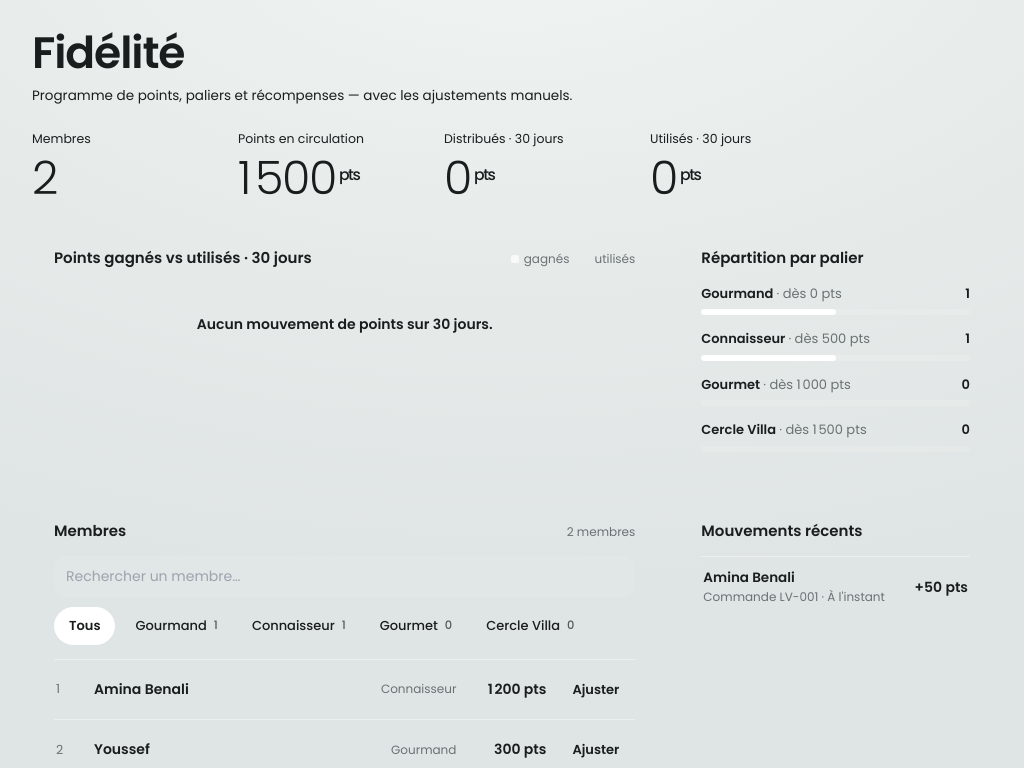
Test: LoyaltyAdminScreen › filtre les membres par recherche puis par palier
Expected: the text "Amina Benali" is shown 2 times, [94,679,189,699]; [703,568,795,587]
In the search field labelled "Rechercher un membre": (345, 577) [54,556,635,597], type "youss"
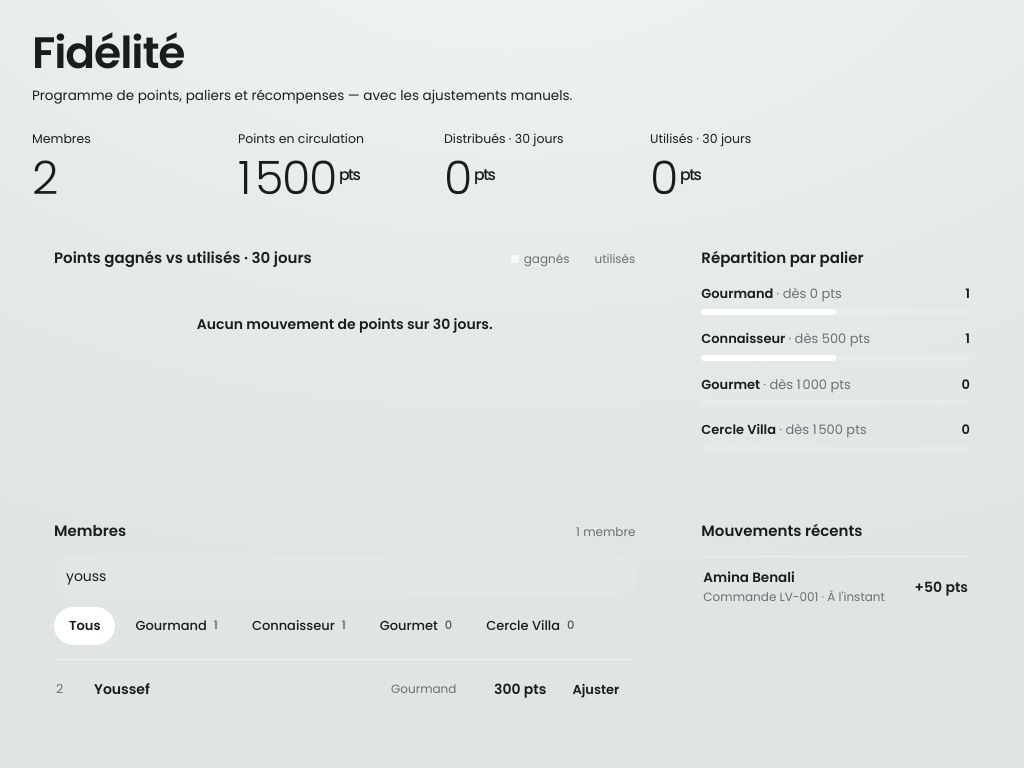
Expected: the text "Amina Benali" is shown once, [703,568,795,587]
Expected: the text "Youssef" is shown, [94,679,150,699]
Clear the search field named "Rechercher un membre": (345, 577) [54,556,635,597]
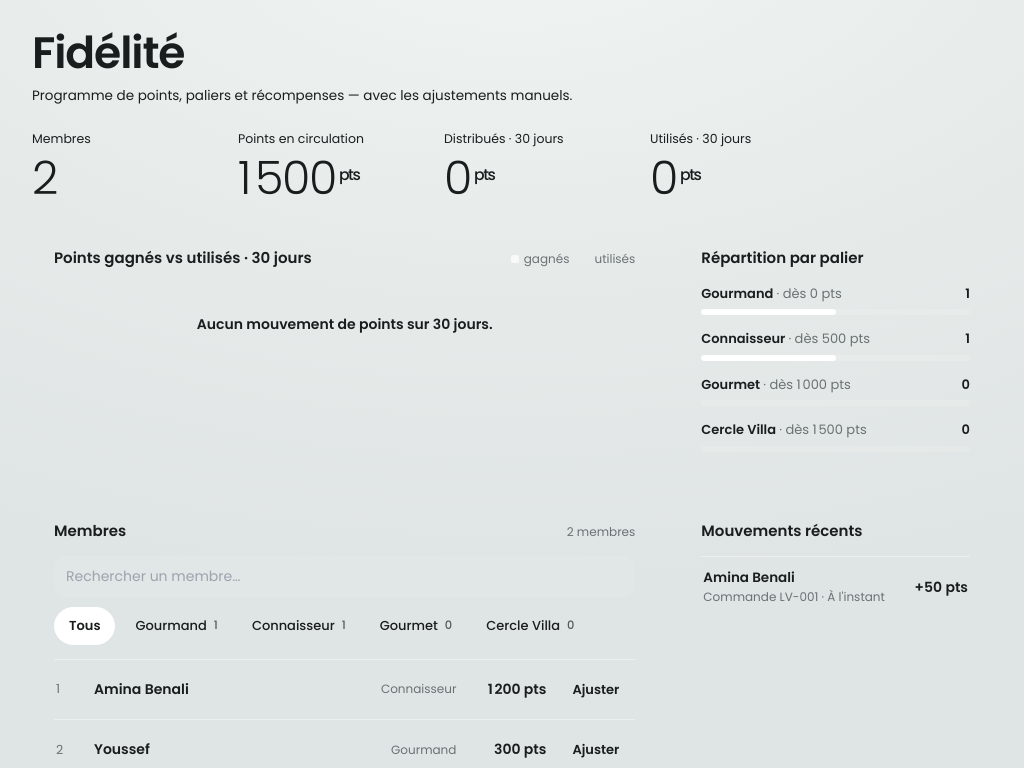
Click the button "Connaisseur 1": (299, 626) [238,607,360,645]
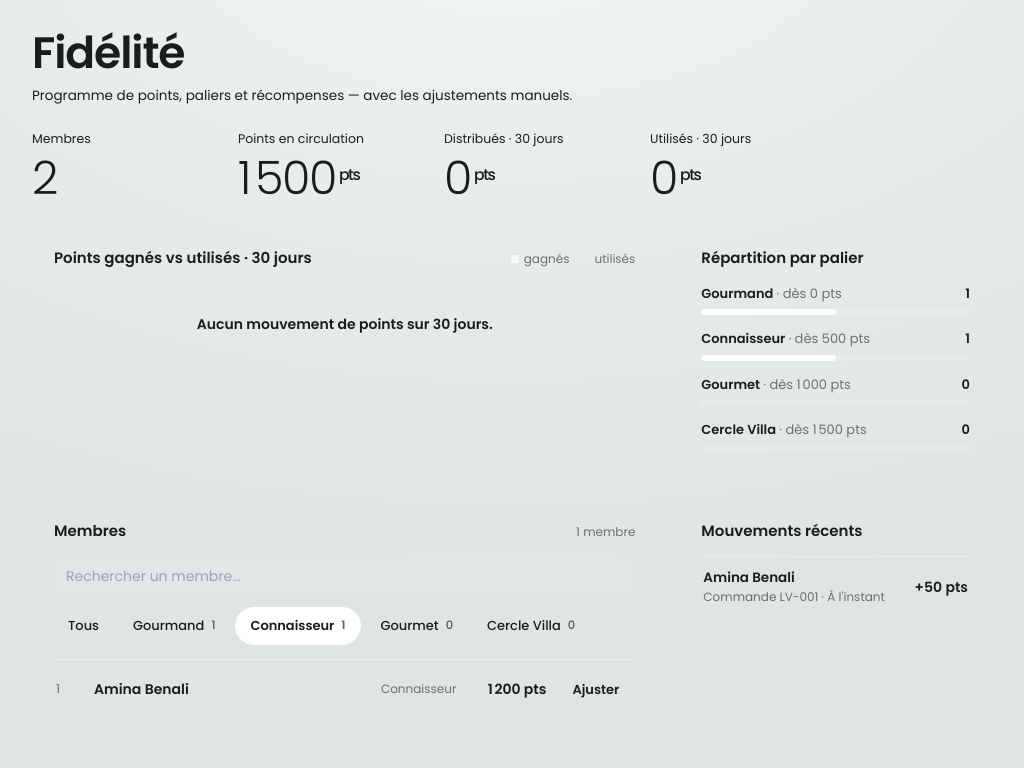
Result: the text "Youssef" is gone
Result: the text "Amina Benali" is shown 2 times at [94,679,189,699]; [703,568,795,587]
